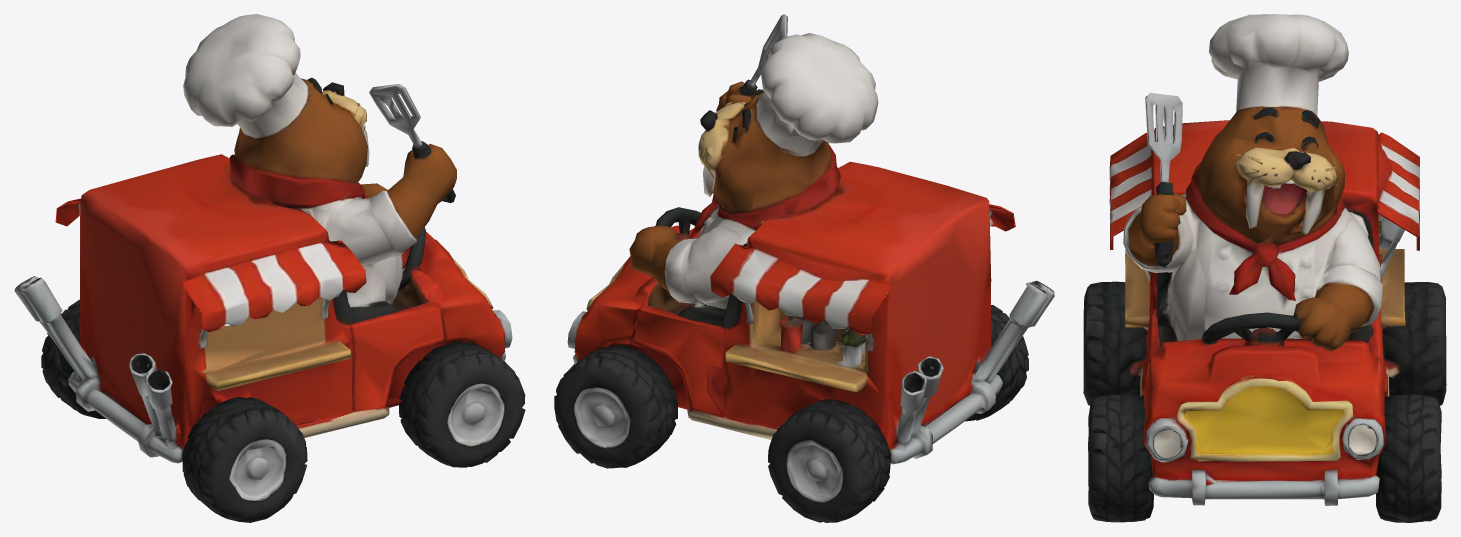
Rendered from gus.glb.
3 renders of one model, left to right at view 1: azimuth 30°, elevation 25°; view 2: azimuth 150°, elevation 25°; view 3: azimuth 270°, elevation 25°, orthographic. The views are drawn at different scales.
Parts seen in each view (by area): view 1: tripo_node_4fab809d-d0fc-414d-9b80-4223fae99385; view 2: tripo_node_4fab809d-d0fc-414d-9b80-4223fae99385; view 3: tripo_node_4fab809d-d0fc-414d-9b80-4223fae99385.
Part boxes in pixels (x1,y1,x2,y2): tripo_node_4fab809d-d0fc-414d-9b80-4223fae99385: (14, 14, 525, 522); tripo_node_4fab809d-d0fc-414d-9b80-4223fae99385: (554, 14, 1054, 522); tripo_node_4fab809d-d0fc-414d-9b80-4223fae99385: (1083, 14, 1446, 522).
Size of the model in its own units: 0.9963 by 0.999 by 0.7511.
Materials: 1 (1 with a texture image).
